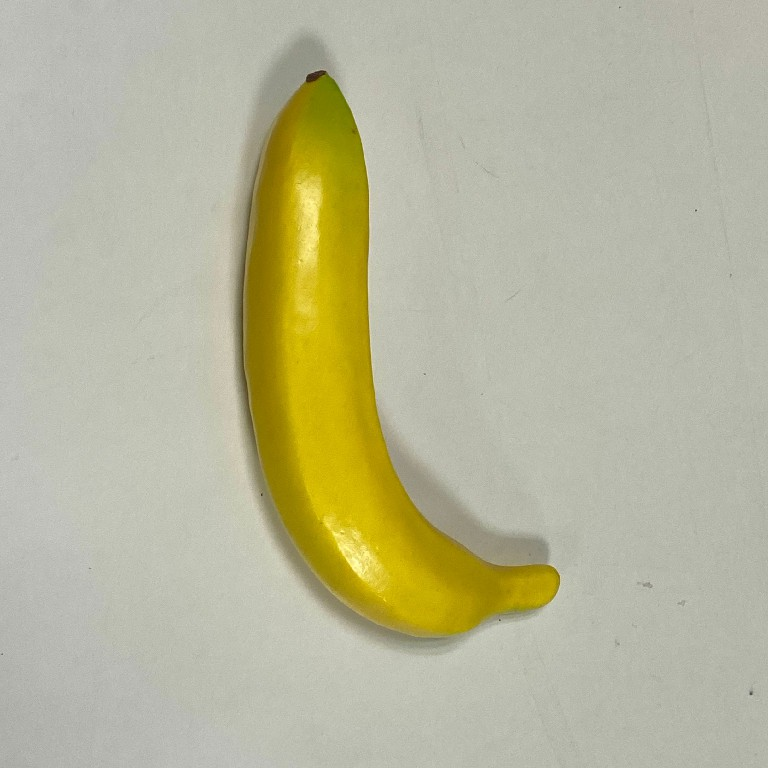fruit_banana: (233, 67, 563, 646)
